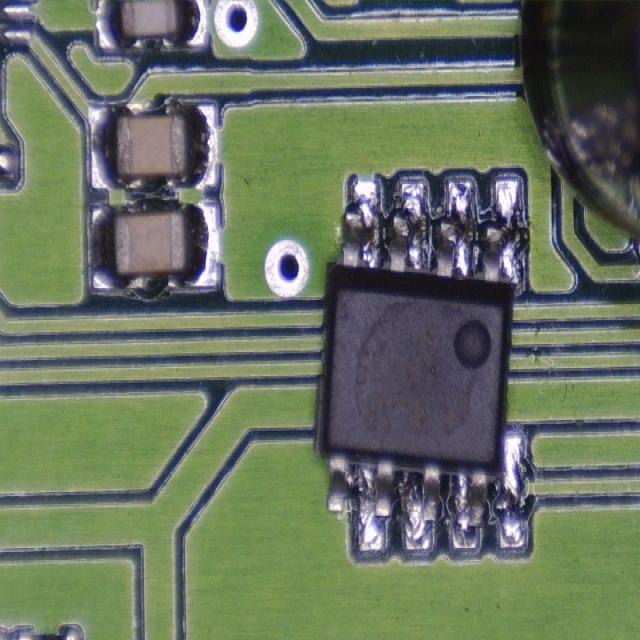Incorrect_installation: (313, 174, 528, 558)
